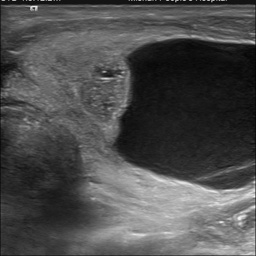mass: (115, 36, 252, 189)
